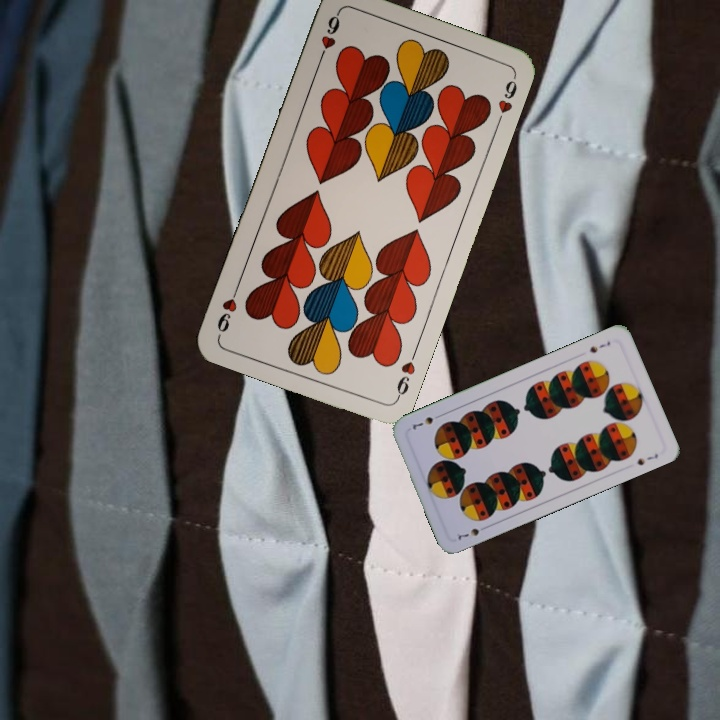H9: (314, 9, 343, 66), (392, 346, 420, 403)
S7: (453, 522, 491, 543), (585, 337, 613, 355)
